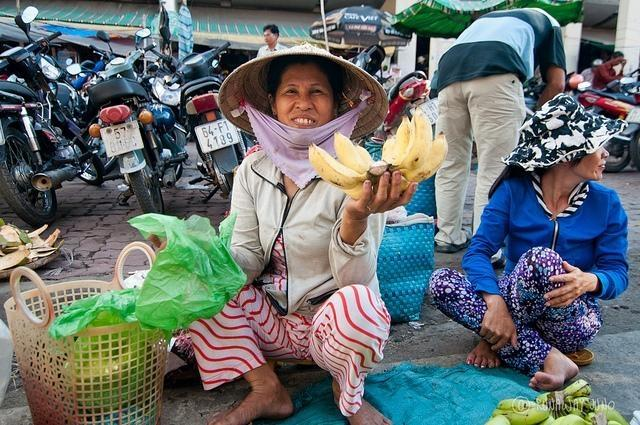motorcycle: (66, 28, 190, 217), (2, 59, 108, 225), (164, 44, 249, 200), (578, 77, 640, 123), (604, 132, 632, 172)
